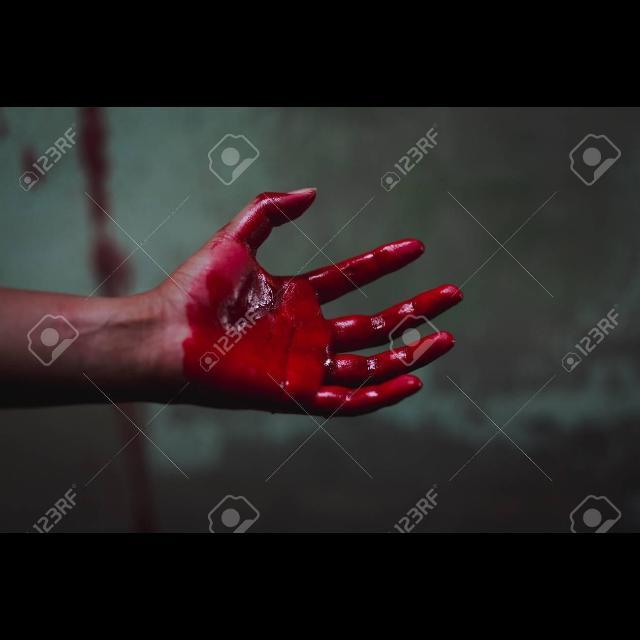blood: (183, 188, 462, 416)
